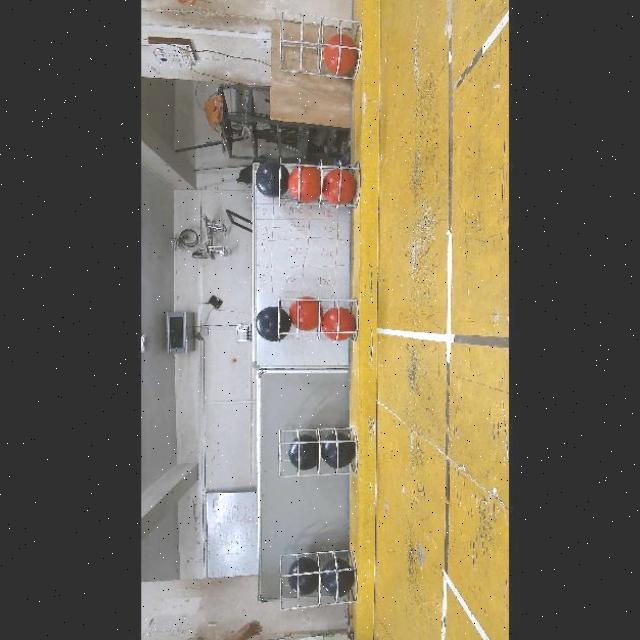P: (319, 559, 354, 598), (254, 306, 291, 342), (254, 162, 289, 199), (286, 556, 318, 596), (321, 432, 355, 468), (287, 434, 318, 470)
R: (322, 34, 358, 76), (287, 163, 321, 201), (287, 296, 322, 332), (322, 169, 355, 204), (321, 307, 355, 340)
S: (276, 9, 364, 81), (277, 548, 359, 610), (276, 156, 360, 212), (278, 426, 358, 479), (277, 295, 359, 343)
